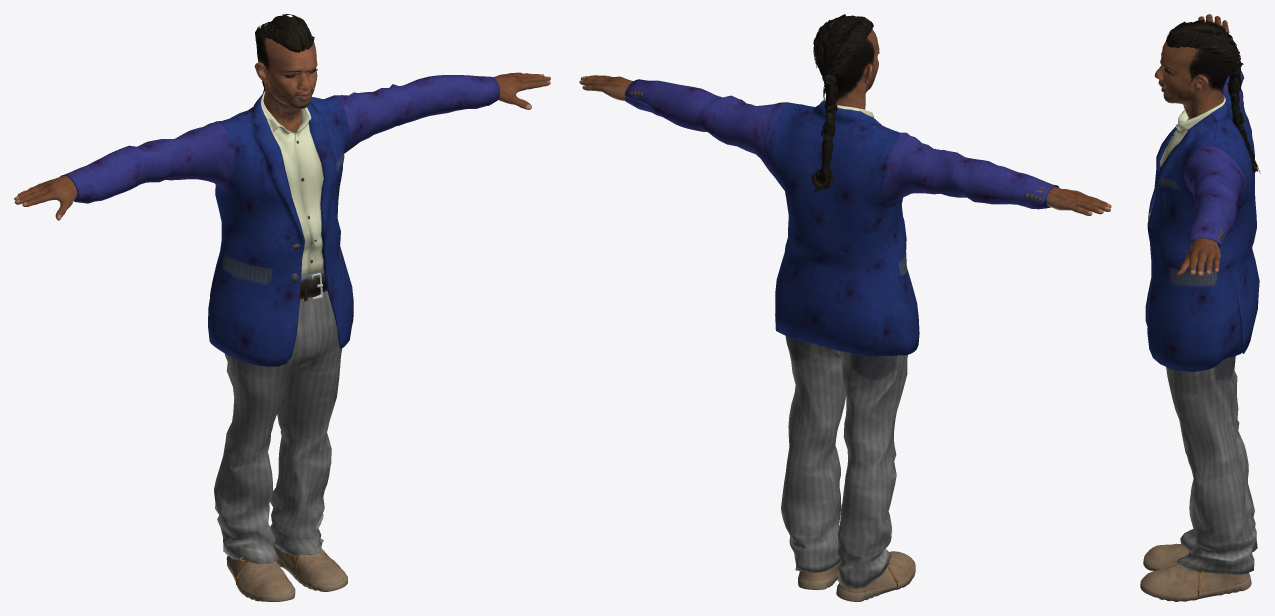
Rendered from ForeignFabrizioModel.obj.
3 views of the same model, side by side, from view 1: azimuth 30°, elevation 25°; view 2: azimuth 150°, elevation 25°; view 3: azimuth 270°, elevation 25° (orthographic).
Visible parts, largest first — view 1: Tops, Bottoms, Body, Shoes, Hair; view 2: Tops, Bottoms, Body, Hair, Shoes; view 3: Tops, Bottoms, Body, Shoes, Hair.
Boxes of the visible parts, left/top/right/bottom form: Tops: left=60, top=75, right=499, bottom=366; Bottoms: left=214, top=269, right=342, bottom=563; Body: left=14, top=37, right=550, bottom=268; Shoes: left=226, top=539, right=347, bottom=601; Hair: left=255, top=14, right=314, bottom=92; Tops: left=624, top=79, right=1059, bottom=356; Bottoms: left=781, top=336, right=907, bottom=588; Body: left=579, top=29, right=1111, bottom=215; Hair: left=811, top=14, right=873, bottom=191; Shoes: left=798, top=551, right=915, bottom=601; Tops: left=1145, top=38, right=1259, bottom=371; Bottoms: left=1166, top=356, right=1257, bottom=574; Body: left=1154, top=14, right=1230, bottom=276; Shoes: left=1140, top=543, right=1253, bottom=601; Hair: left=1166, top=20, right=1260, bottom=173.
Size of the model in its own units: 178 by 179 by 34.92.
1 material, 1 textured.
